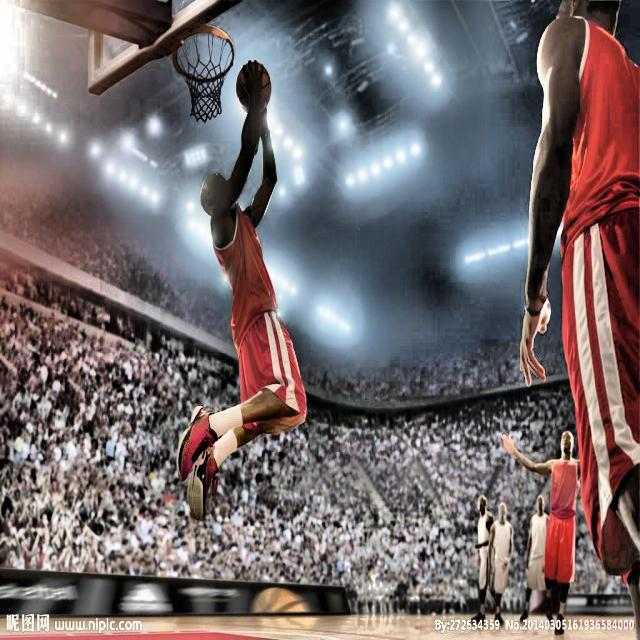rim: (173, 24, 236, 120)
